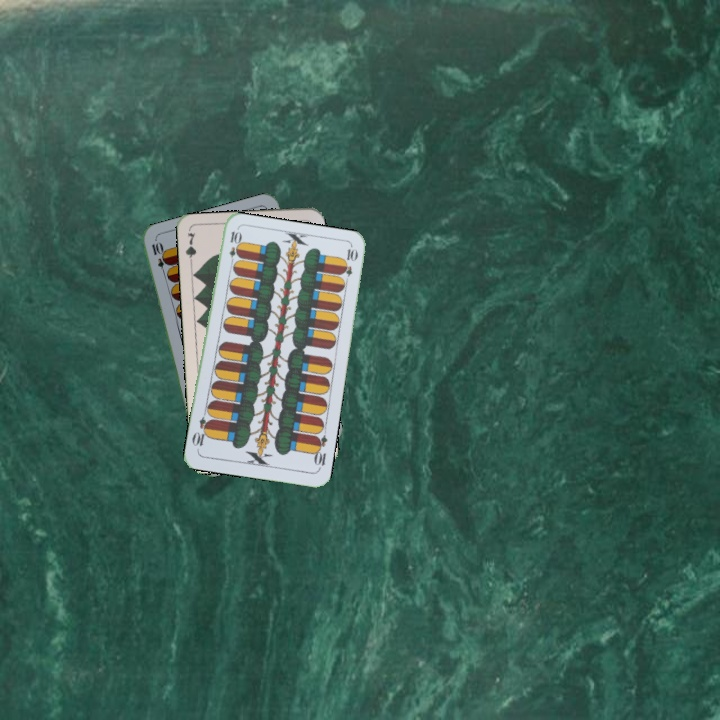E10: (147, 238, 170, 278), (309, 432, 330, 472), (225, 227, 242, 268)
G7: (182, 228, 199, 269)
